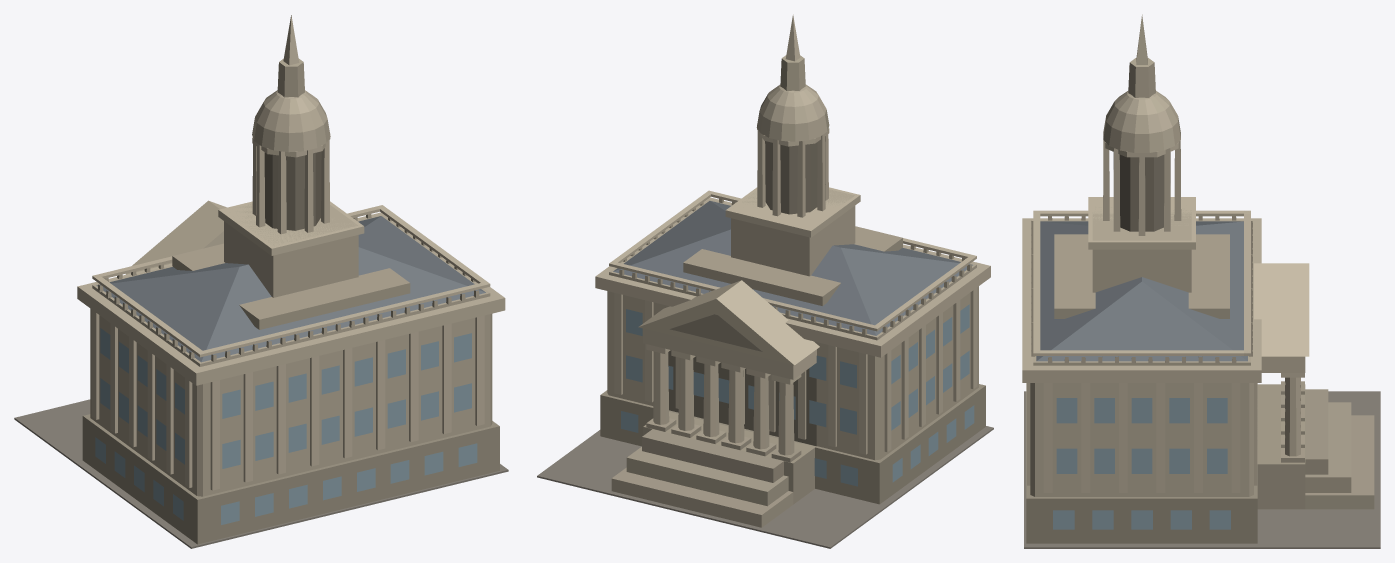
3 views of the same model, side by side, from view 1: azimuth 30°, elevation 25°; view 2: azimuth 150°, elevation 25°; view 3: azimuth 270°, elevation 25° (orthographic). The views are drawn at different scales.
Parts seen in each view (by area): view 1: brooklyn-borough-hall-lod0; view 2: brooklyn-borough-hall-lod0; view 3: brooklyn-borough-hall-lod0.
Part boxes in pixels (x1,y1,x2,y2): brooklyn-borough-hall-lod0: (14, 15, 508, 548); brooklyn-borough-hall-lod0: (537, 14, 993, 548); brooklyn-borough-hall-lod0: (1022, 14, 1380, 548).
Bounding box in the file's own units: 58 × 79.2 × 56.25.
